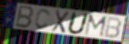B: (14, 4, 35, 30), (103, 16, 122, 40)
C: (33, 8, 52, 31)
M: (83, 14, 108, 38)
U: (66, 11, 91, 36)
X: (50, 9, 71, 35)
